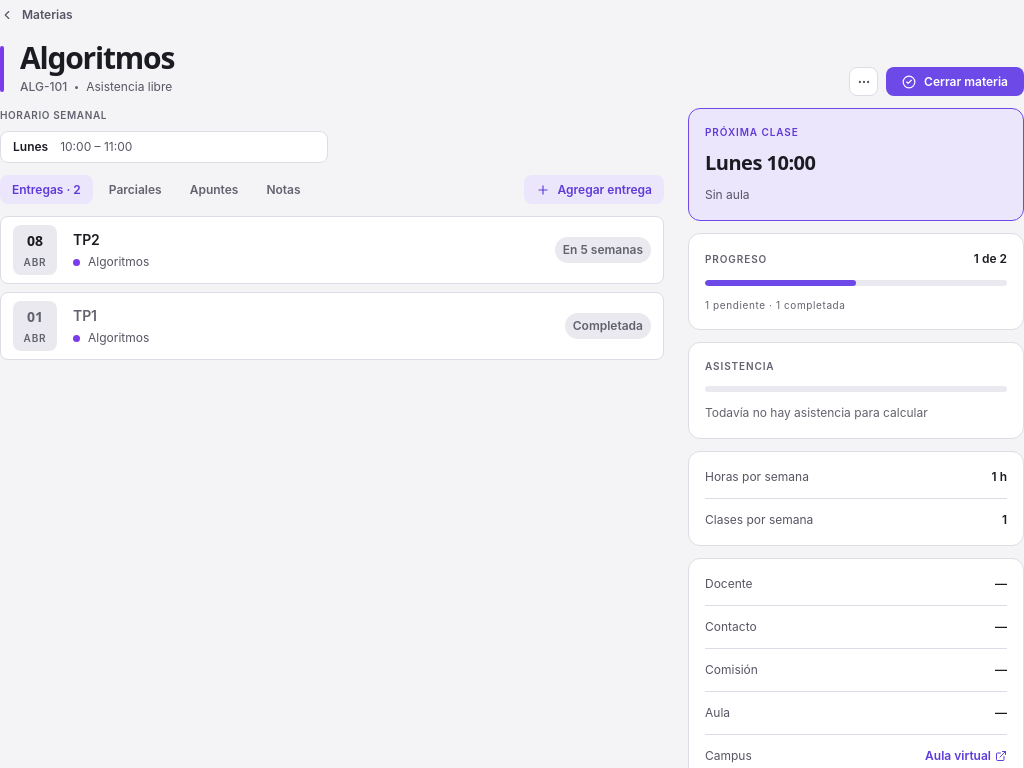
Test: SubjectDetailContainer › cerrar materia › opens the form from the header even when the subject has no período
Check: the text "1 de 2" is shown, box [974,250,1007,268]
What coordinates should you click on to do the following:
click the button "Cerrar materia"
I would click on:
 (955, 82)
Its box is [886,67,1023,96].
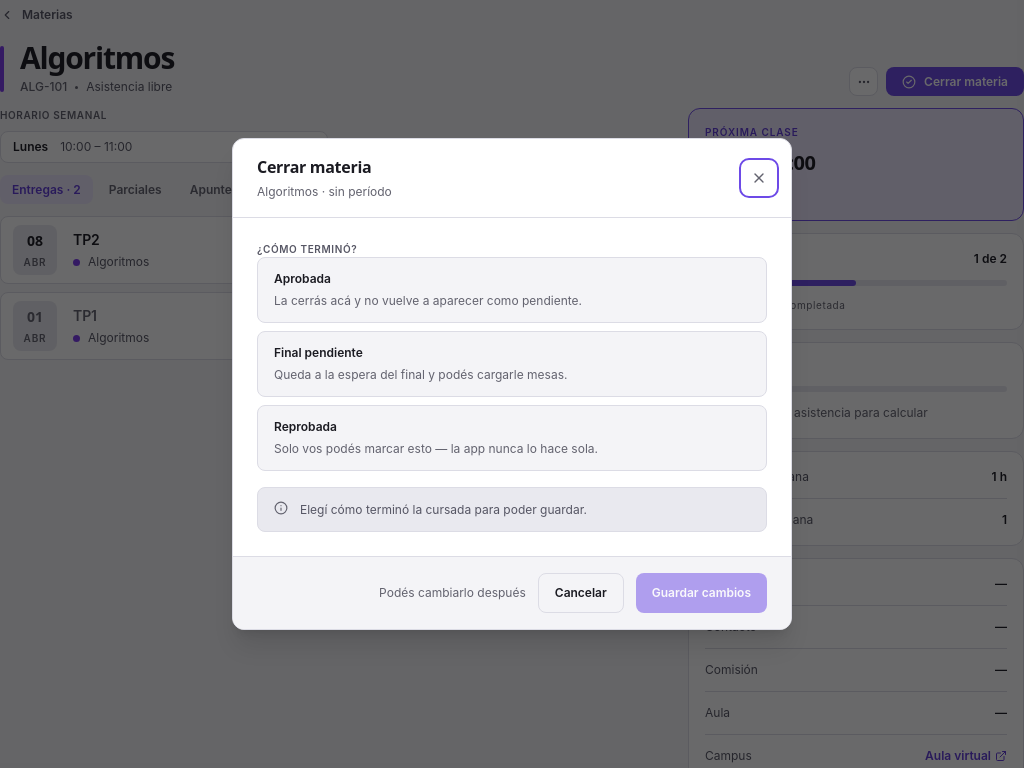
Check: the dialog "Cerrar materia" is shown, box [232,138,792,630]
